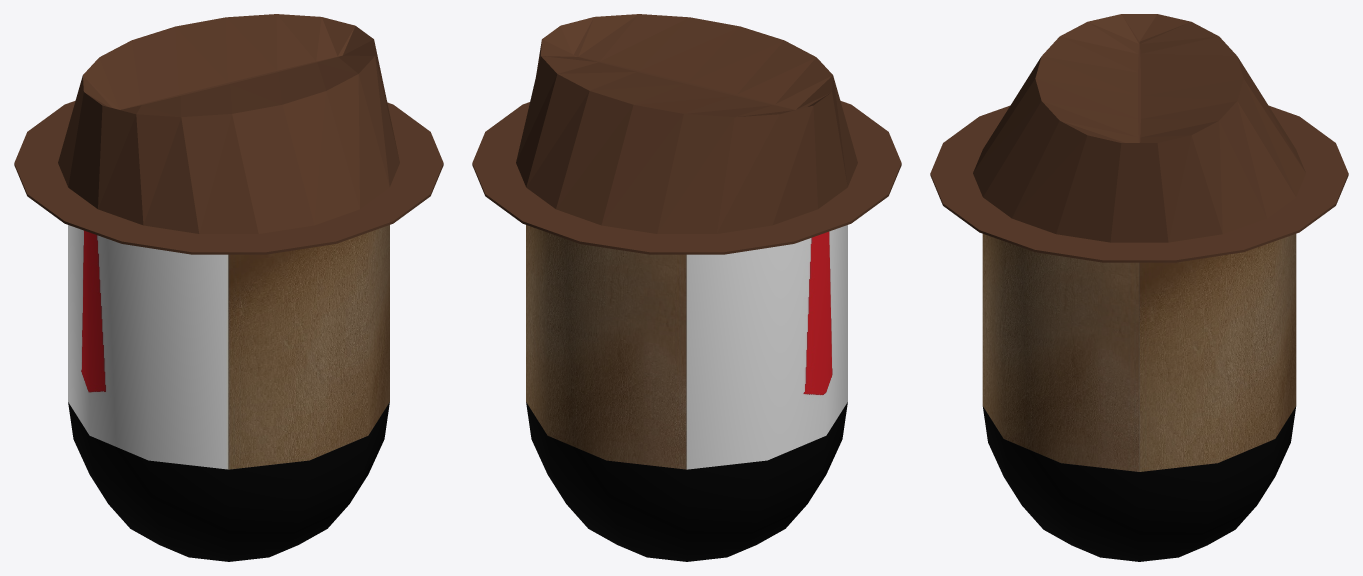
The model's file is Player.FBX.
3 views of the same model, side by side, from view 1: azimuth 30°, elevation 25°; view 2: azimuth 150°, elevation 25°; view 3: azimuth 270°, elevation 25° (orthographic). The views are drawn at different scales.
Parts seen in each view (by area): view 1: Capsule001, Cylinder001; view 2: Capsule001, Cylinder001; view 3: Capsule001, Cylinder001.
Boxes of the visible parts, x1,y1,x2,y2 form: Capsule001: [68, 225, 389, 561]; Cylinder001: [14, 14, 443, 254]; Capsule001: [526, 225, 847, 561]; Cylinder001: [472, 14, 901, 254]; Capsule001: [982, 234, 1296, 561]; Cylinder001: [930, 14, 1348, 262].
Size of the model in its own units: 7.88 by 9.91 by 8.
